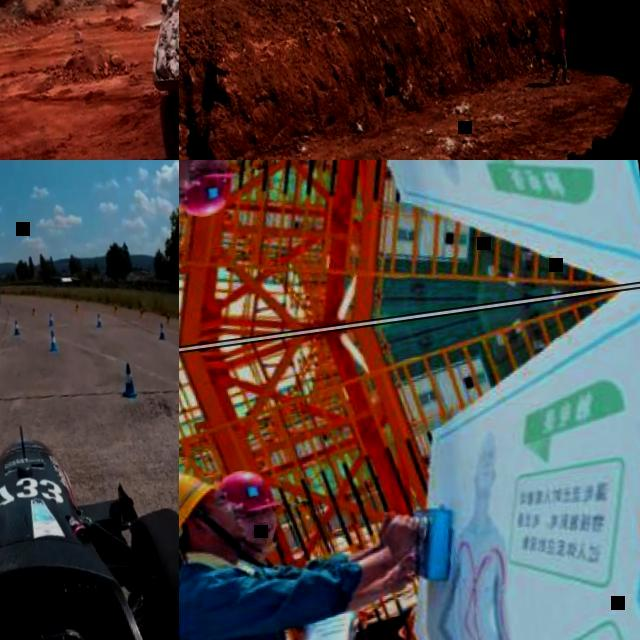helmet: (179, 464, 223, 553), (179, 168, 242, 218), (217, 468, 281, 512), (556, 8, 562, 15)
machinery: (122, 0, 179, 160), (132, 0, 179, 160)
no_mask: (216, 502, 244, 540), (244, 520, 280, 545), (179, 160, 196, 176), (191, 160, 230, 166)
no_vest: (179, 559, 278, 640), (550, 20, 567, 52)
person: (179, 436, 431, 640), (218, 450, 424, 626), (542, 5, 574, 86), (0, 275, 2, 303)
safety_cone: (118, 364, 140, 402), (47, 328, 60, 356), (156, 320, 166, 342), (11, 319, 21, 339), (95, 312, 104, 330), (46, 312, 56, 328), (164, 311, 172, 326), (138, 306, 146, 321), (114, 302, 120, 316), (31, 305, 38, 317), (74, 301, 80, 314)
vehicle: (0, 397, 179, 640)
